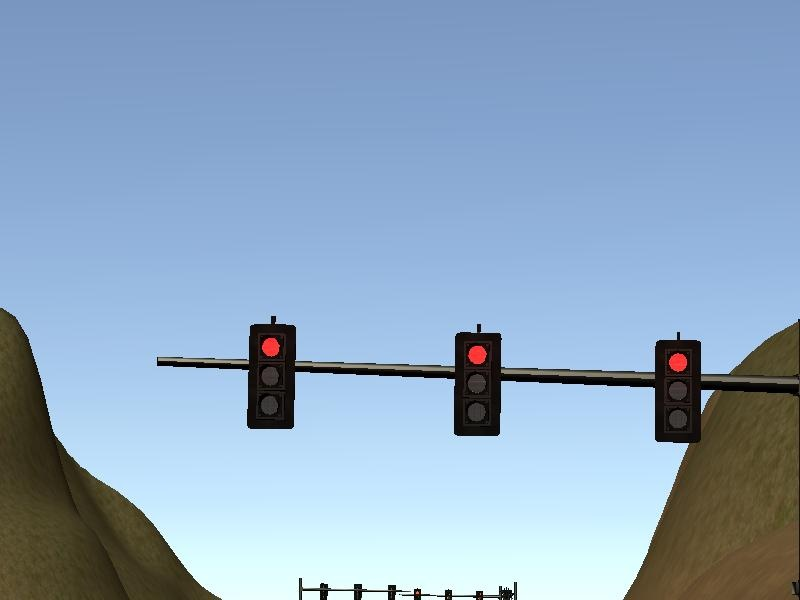red: (246, 325, 297, 429), (452, 334, 501, 438), (655, 340, 702, 444)
